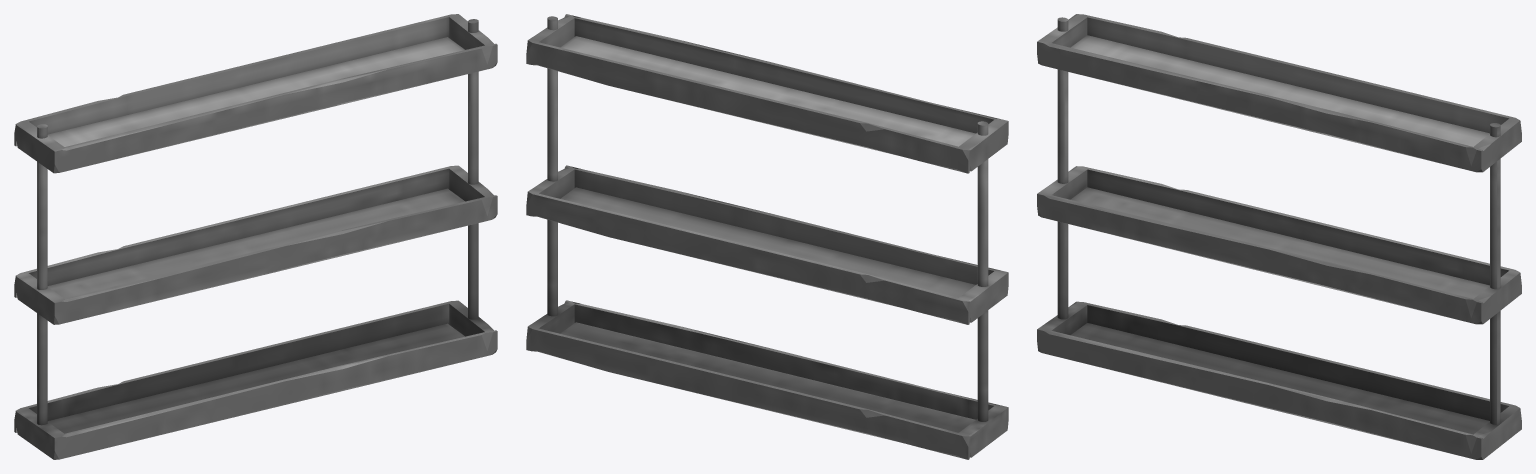
The model's file is seed soaking rack.fbx.
3 views of the same model, side by side, from view 1: azimuth 30°, elevation 25°; view 2: azimuth 150°, elevation 25°; view 3: azimuth 330°, elevation 25° (orthographic).
Visible parts, largest first — view 1: seed soaking rack; view 2: seed soaking rack; view 3: seed soaking rack.
Part boxes in pixels (x1,y1,x2,y2): seed soaking rack: [14, 14, 497, 459]; seed soaking rack: [526, 14, 1008, 459]; seed soaking rack: [1037, 14, 1521, 459].
Size of the model in its own units: 401 by 277 by 63.28.
